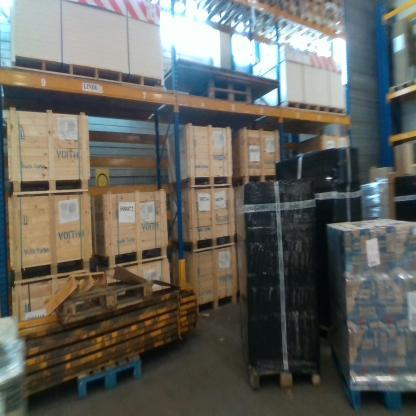pallets: (13, 231, 240, 289), (9, 55, 167, 91), (333, 362, 416, 416), (245, 356, 321, 392), (183, 172, 277, 190), (6, 177, 90, 196), (183, 294, 236, 323), (279, 99, 349, 118)
